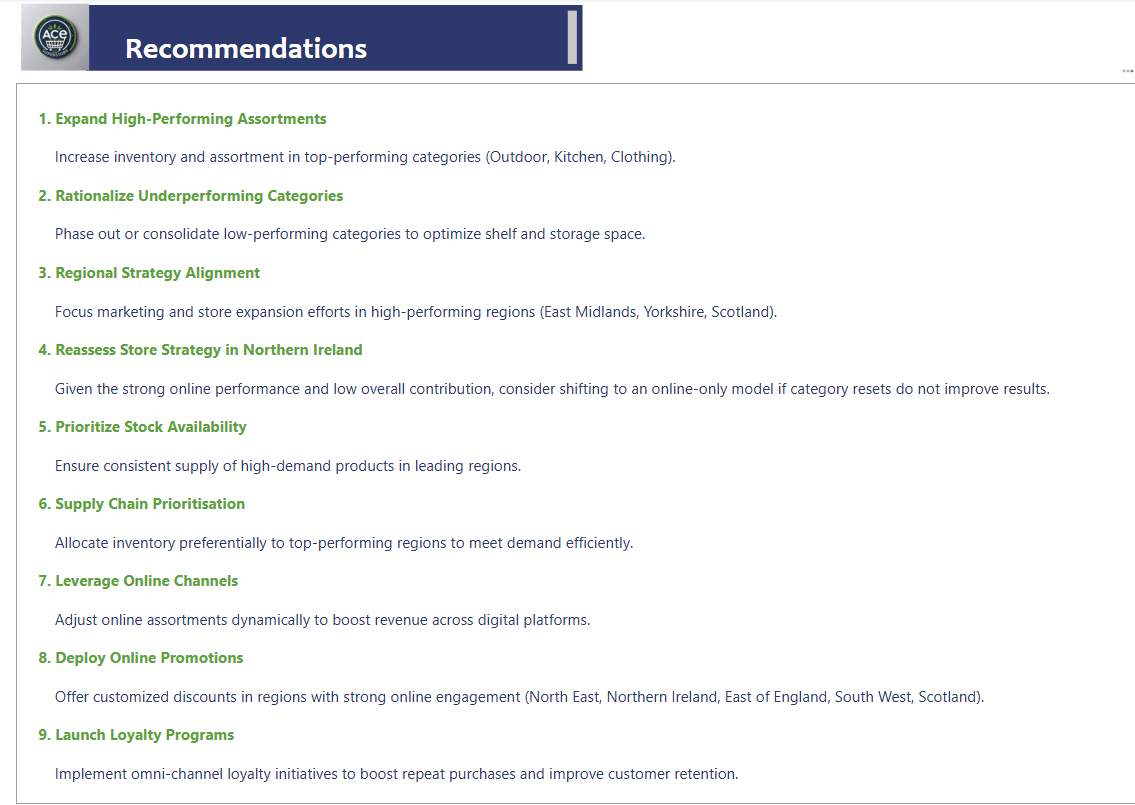

The dashboard page shown, as its layout file describes it:
{"tool":"powerbi","page":{"name":"Recommendations","canvas":[1280,720],"ordinal":3},"visuals":[{"type":"textbox","box":[26.7,75,992.5,635.8],"z":0},{"type":"textbox","box":[88.3,5.8,437.5,58.3],"z":2000},{"type":"image","box":[0,0,123,68.5],"z":3000},{"type":"actionButton","box":[1207.5,0,72.5,40],"z":4000}]}

Visuals, with their boxes on the page's 1280x720 design canvas (x1, y1, x2, y2). These are canvas units, not pixel positions in the 1135x805 screenshot, which may show the page scaled, cropped or inside an application window:
textbox: 27/75/1019/711
textbox: 88/6/526/64
image: 0/0/123/68
actionButton: 1208/0/1280/40
